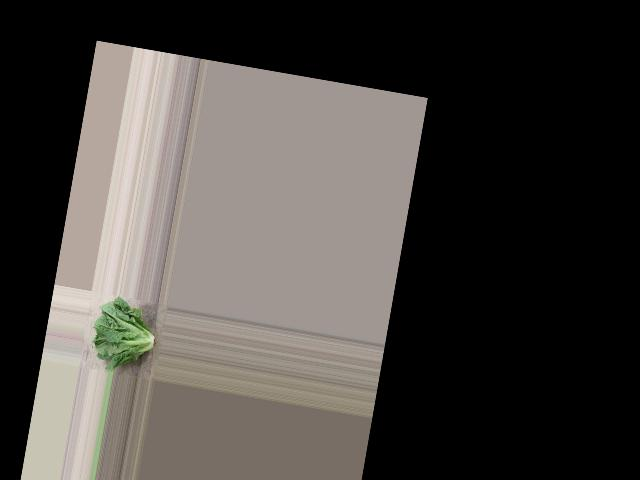lettuce: (85, 295, 165, 378)
